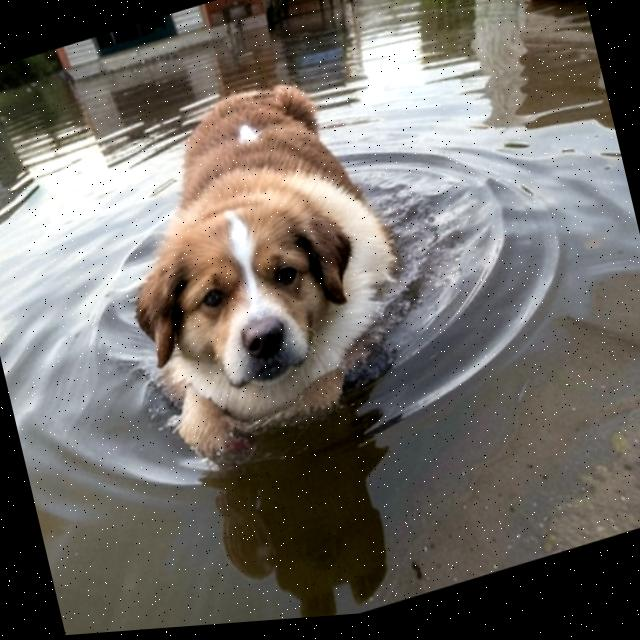dog: (79, 30, 428, 494)
